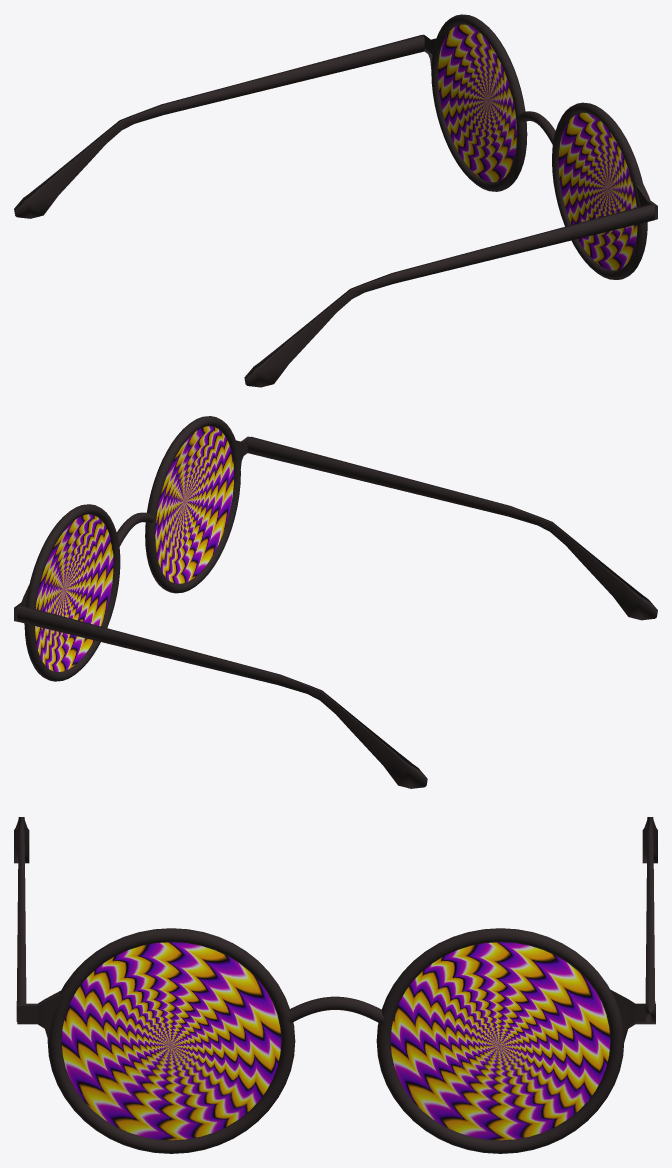
The model's file is bril.fbx.
3 renders of one model, top to bottom at view 1: azimuth 30°, elevation 25°; view 2: azimuth 150°, elevation 25°; view 3: azimuth 270°, elevation 25°, orthographic. The views are drawn at different scales.
Visible parts, largest first — view 1: Circle, Circle.001, Brl, Pootje, Pootje2; view 2: Circle.001, Circle, Brl, Pootje, Pootje2; view 3: Circle, Circle.001, Brl, Pootje, Pootje2.
Part boxes in pixels (x1=…): Circle: x1=438, y1=24, x2=516, y2=182; Circle.001: x1=558, y1=112, x2=637, y2=270; Brl: x1=421, y1=14, x2=657, y2=279; Pootje: x1=14, y1=35, x2=424, y2=218; Pootje2: x1=244, y1=203, x2=654, y2=387; Circle.001: x1=155, y1=426, x2=233, y2=583; Circle: x1=35, y1=514, x2=113, y2=671; Brl: x1=14, y1=416, x2=249, y2=681; Pootje: x1=17, y1=605, x2=427, y2=788; Pootje2: x1=247, y1=436, x2=657, y2=620; Circle: x1=390, y1=942, x2=610, y2=1140; Circle.001: x1=61, y1=942, x2=281, y2=1140; Brl: x1=17, y1=928, x2=655, y2=1153; Pootje: x1=642, y1=817, x2=657, y2=1021; Pootje2: x1=14, y1=817, x2=29, y2=1021.
Size of the model in its own units: 421 by 158 by 411.
3 materials, 2 textured.
